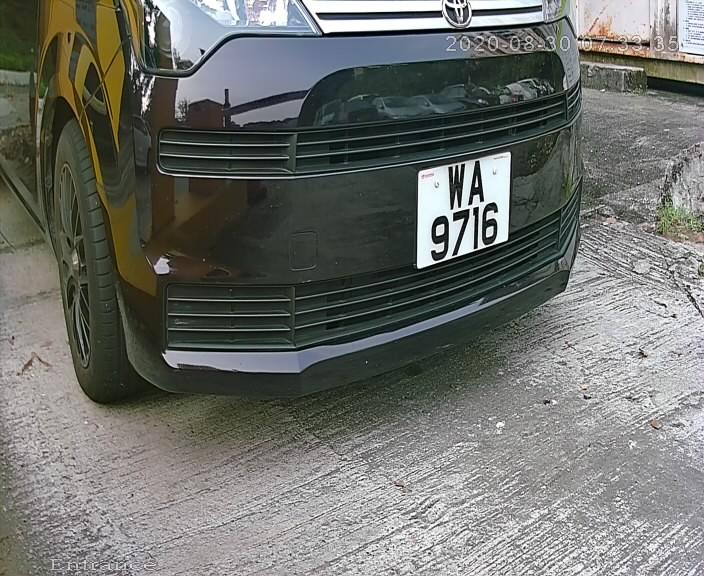License Plate: (409, 142, 522, 278)
